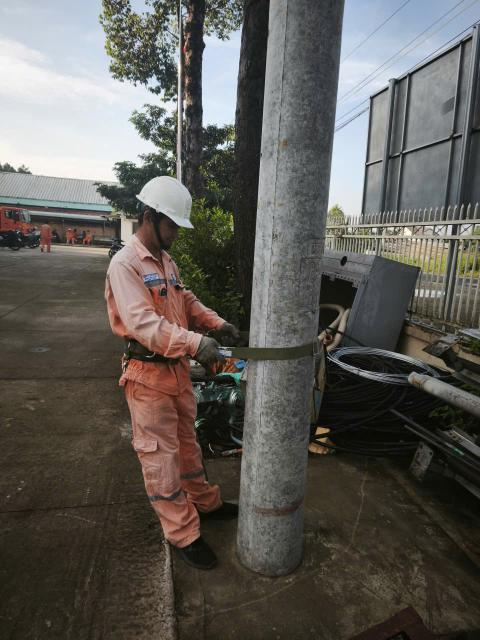gloves: (190, 335, 235, 370), (214, 311, 251, 351)
harness: (97, 328, 200, 372)
helmet: (123, 170, 207, 242)
shoes: (170, 527, 226, 575), (194, 484, 248, 528)
